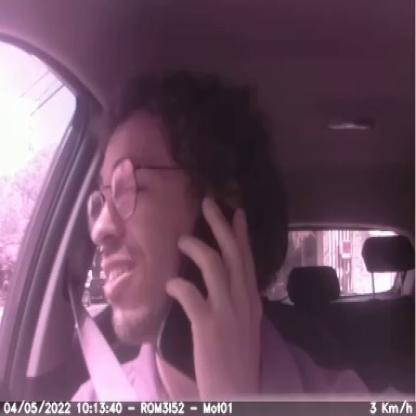phone: (152, 190, 249, 390)
